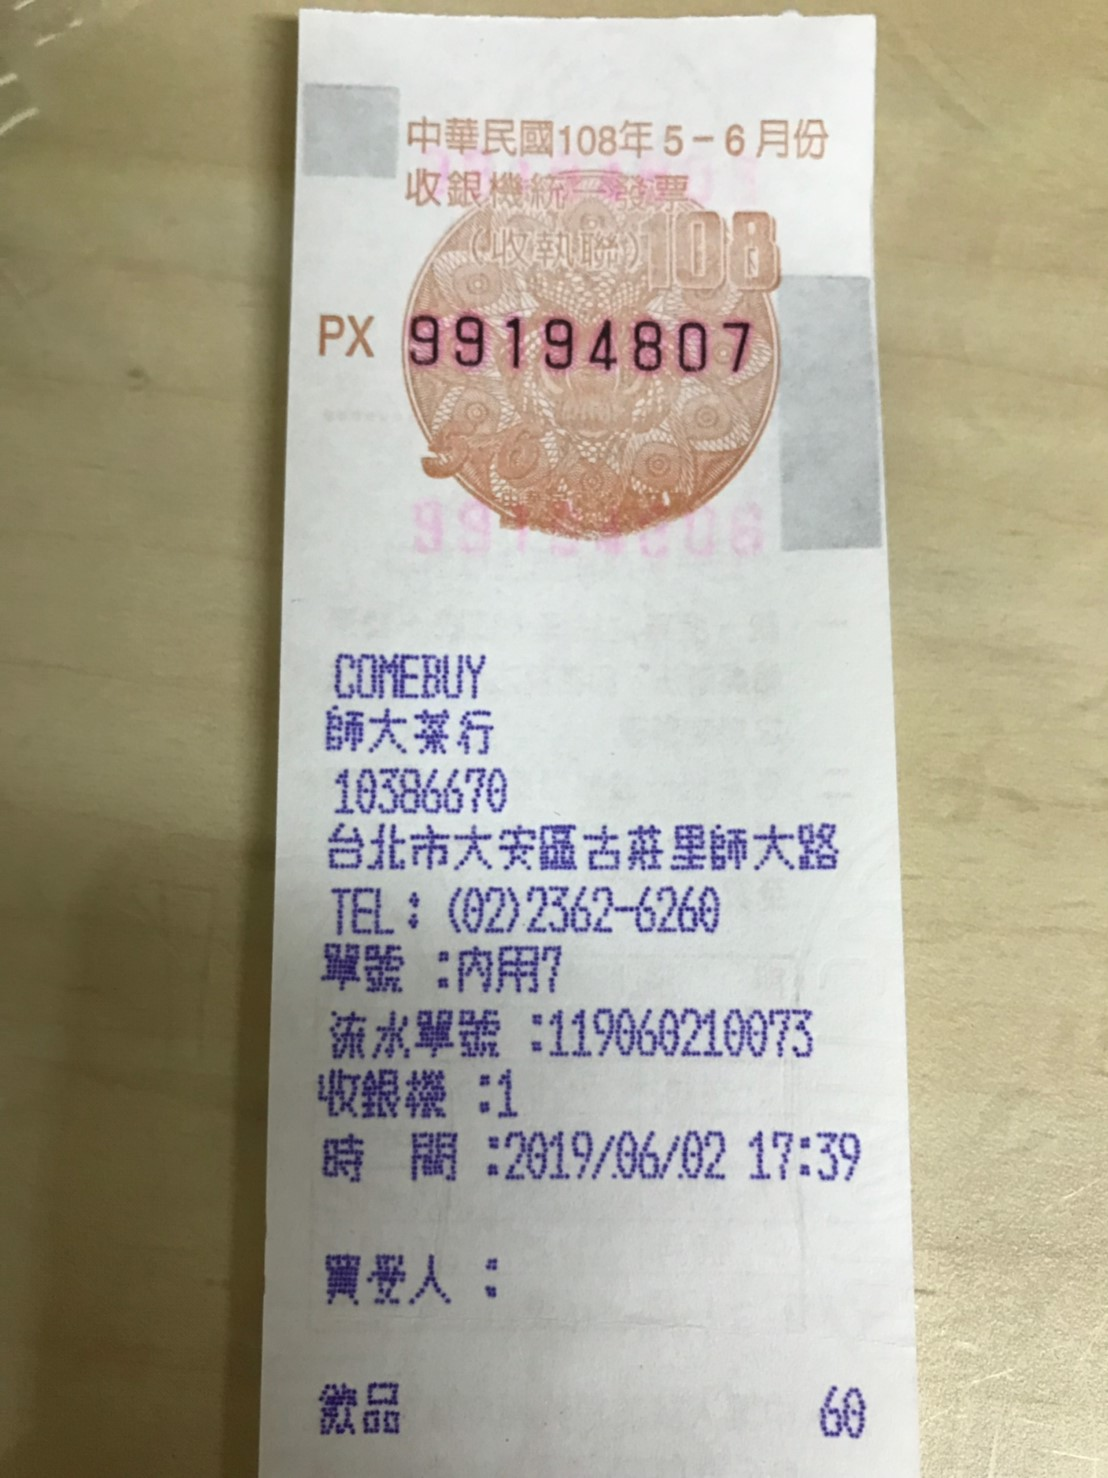Date_Old: (556, 114, 834, 159)
Number_Old: (405, 312, 759, 376)
